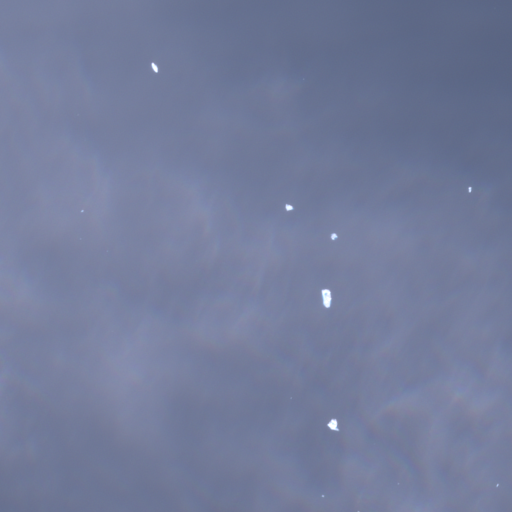Iceberg: (321, 289, 331, 307), (327, 419, 339, 430), (151, 61, 157, 72), (285, 204, 293, 210), (331, 233, 337, 239), (468, 187, 471, 192), (496, 483, 498, 486), (81, 210, 83, 211), (322, 495, 323, 496)
